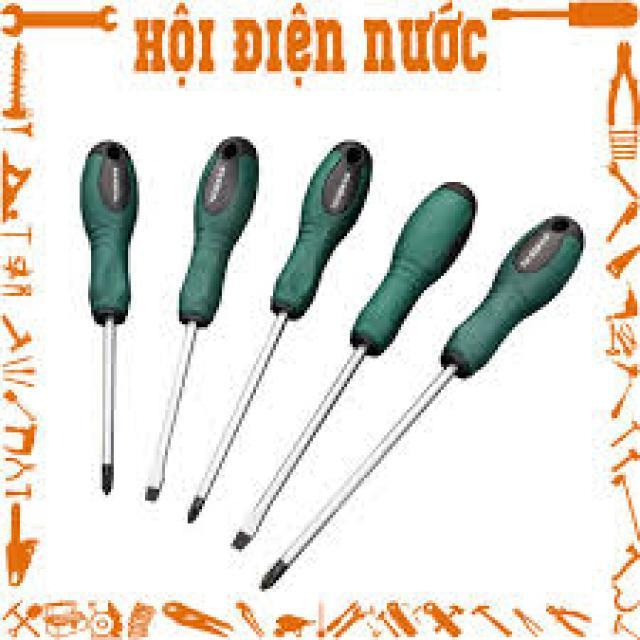screwdriver: (259, 210, 586, 594), (228, 176, 480, 566), (180, 138, 374, 530), (136, 133, 262, 512), (74, 137, 142, 500)
